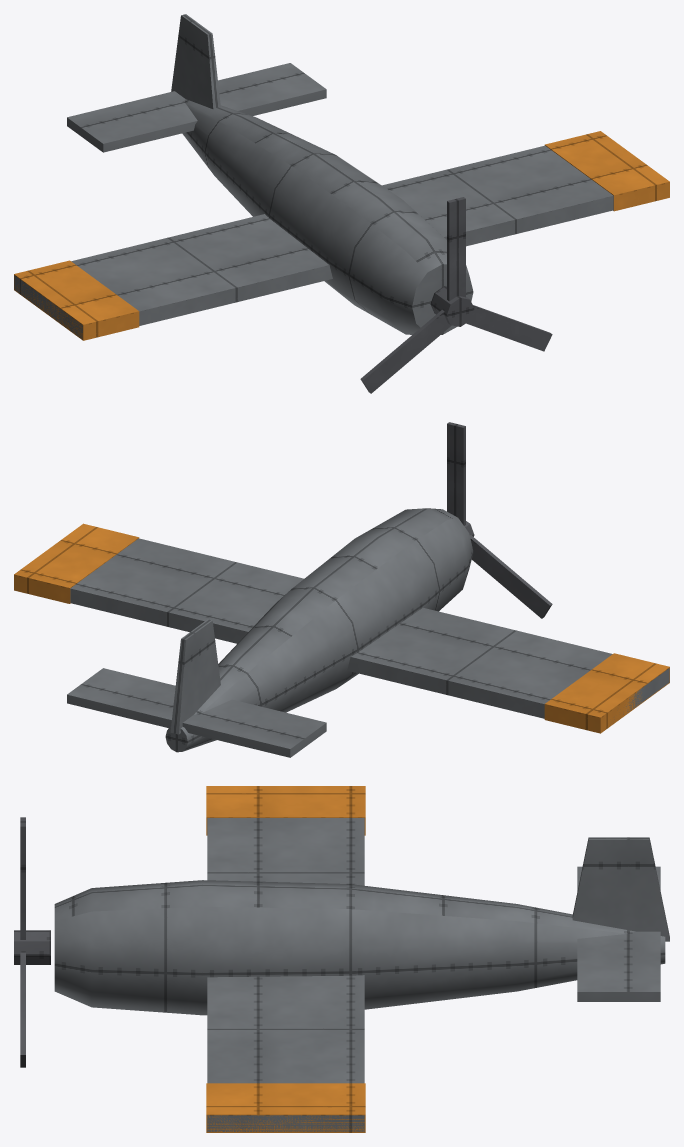
The picture shows the model from 3 angles, top to bottom: view 1: azimuth 30°, elevation 25°; view 2: azimuth 150°, elevation 25°; view 3: azimuth 270°, elevation 25°; orthographic projection. The views are drawn at different scales.
Parts seen in each view (by area): view 1: plane_body, PROP; view 2: plane_body, PROP; view 3: plane_body, PROP.
Part boxes in pixels (box(x1,y1,x2,y2)): plane_body: box(14, 14, 669, 340); PROP: box(360, 197, 552, 393); plane_body: box(14, 508, 669, 757); PROP: box(447, 422, 552, 618); plane_body: box(54, 786, 669, 1132); PROP: box(14, 817, 50, 1067).
Bounding box in the file's own units: 4.2 × 1.18 × 3.55.
Materials: 4 (4 with a texture image).
